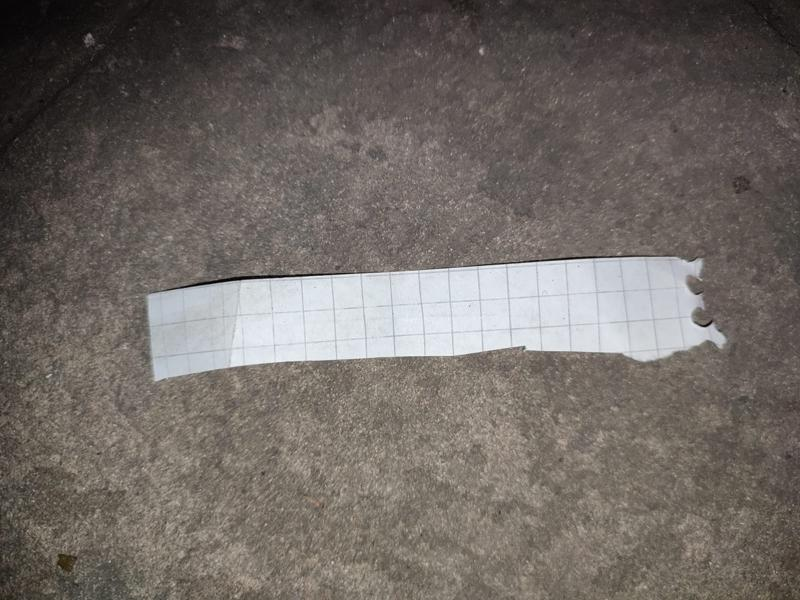papel: (143, 257, 726, 382)
